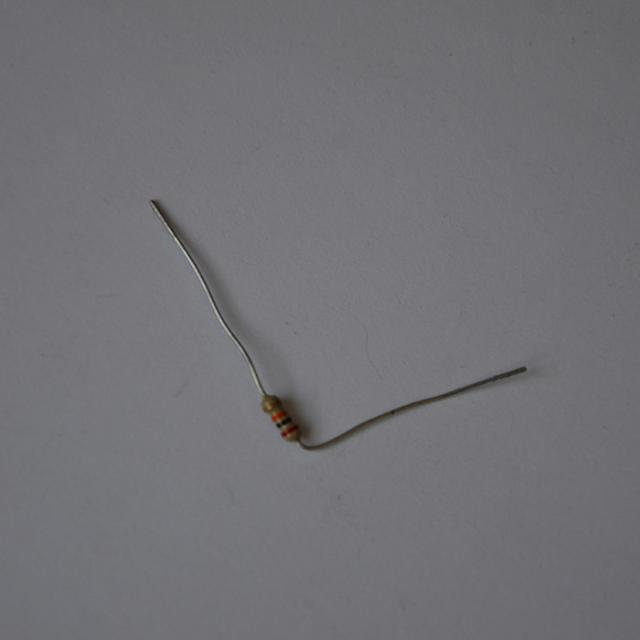black: (277, 416, 292, 427)
gold: (263, 399, 280, 411)
orange: (271, 409, 287, 421)
red: (281, 425, 298, 438)
resistor: (251, 386, 314, 451)
